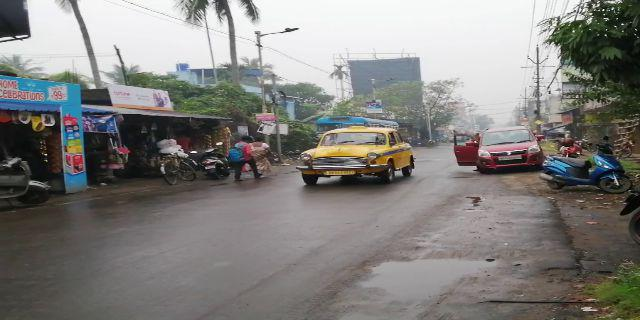Car: (299, 129, 415, 191), (463, 123, 543, 170)
Motorbike: (552, 155, 628, 192)
